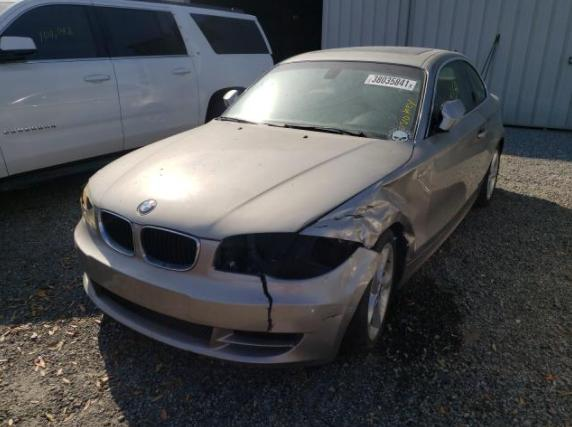Back-door: (461, 57, 503, 164)
Back-wheel: (471, 144, 501, 209)
Back-window: (464, 61, 486, 105)
Fender: (297, 138, 435, 265)
Front-bumper: (72, 205, 382, 370)
Front-door: (414, 57, 492, 259)
Front-wheel: (335, 227, 399, 359)
Front-window: (433, 60, 478, 122)
Grille: (97, 209, 201, 272)
Headlight: (79, 183, 98, 231)
Hood: (86, 116, 414, 242)
Mirror: (429, 98, 466, 136), (222, 89, 239, 109)
Quarter-panel: (490, 93, 507, 148)
Rocker-panel: (394, 178, 485, 291)
Roof: (277, 45, 450, 68)
Windshield: (218, 59, 426, 141)
